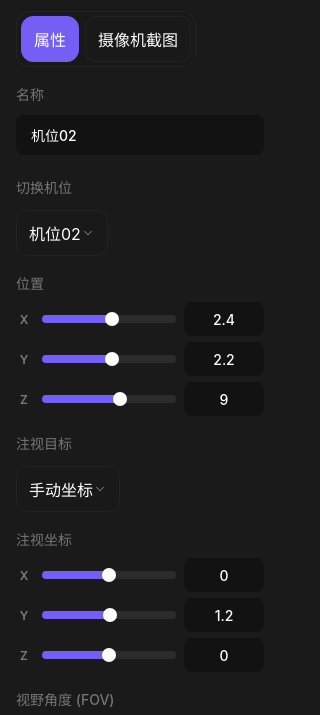
Test: uses the custom dropdown menu to switch camera shots
What coordinates should you click on to do the following:
click the button with aria-label "切换机位"
I would click on:
 (62, 233)
Its box is [16,210,108,256].
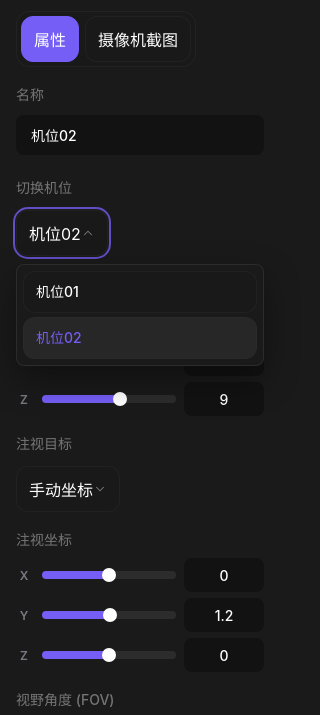
What coordinates should you click on to do the following:
click the option "机位01"
I would click on:
 (140, 292)
Its box is [23,271,257,313].
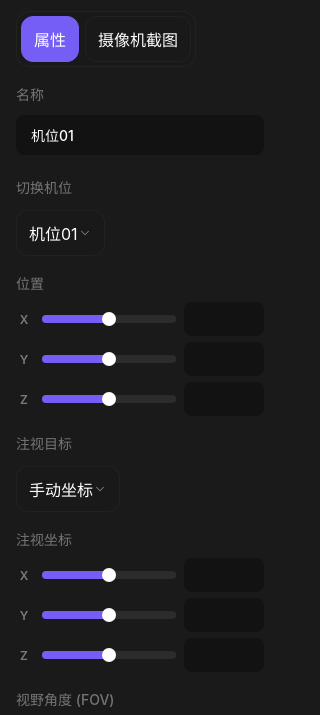
Result: the list "机位01 机位02" is gone
